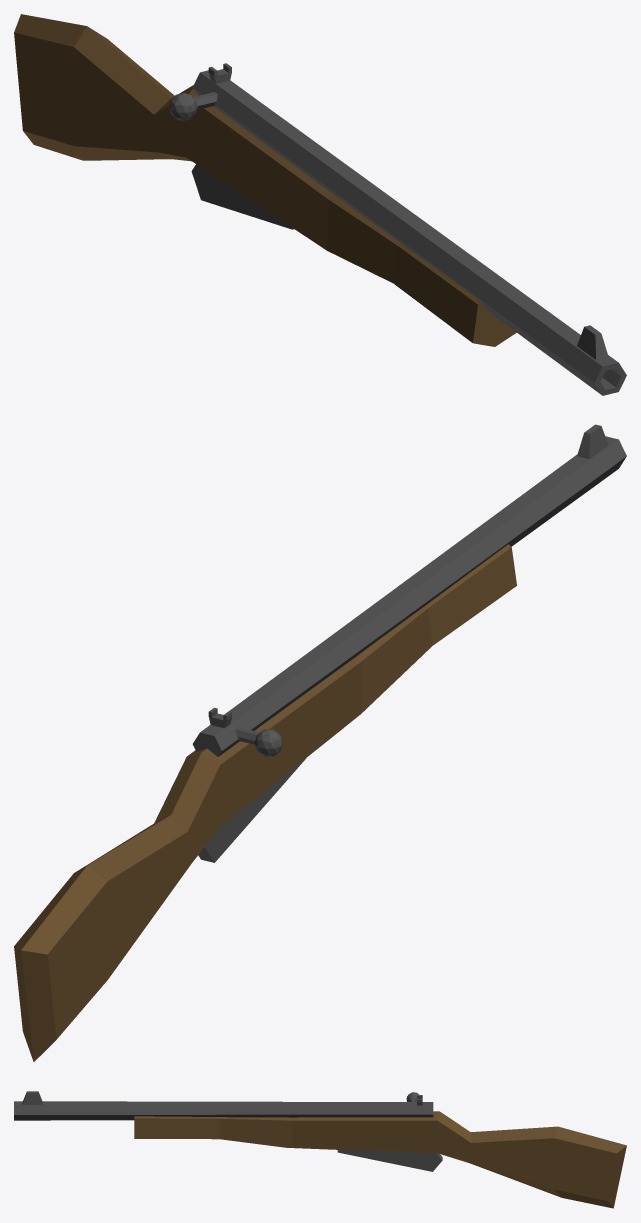
Rendered from rifle.fbx.
3 views of the same model, one above another, from view 1: azimuth 30°, elevation 25°; view 2: azimuth 150°, elevation 25°; view 3: azimuth 270°, elevation 25° (orthographic). The views are drawn at different scales.
Visible parts, largest first — view 1: rifle; view 2: rifle; view 3: rifle.
Boxes of the visible parts, x1,y1,x2,y2 form: rifle: [14, 14, 626, 395]; rifle: [14, 424, 626, 1061]; rifle: [14, 1091, 626, 1208].
Size of the model in its own units: 11.42 by 31.63 by 151.
